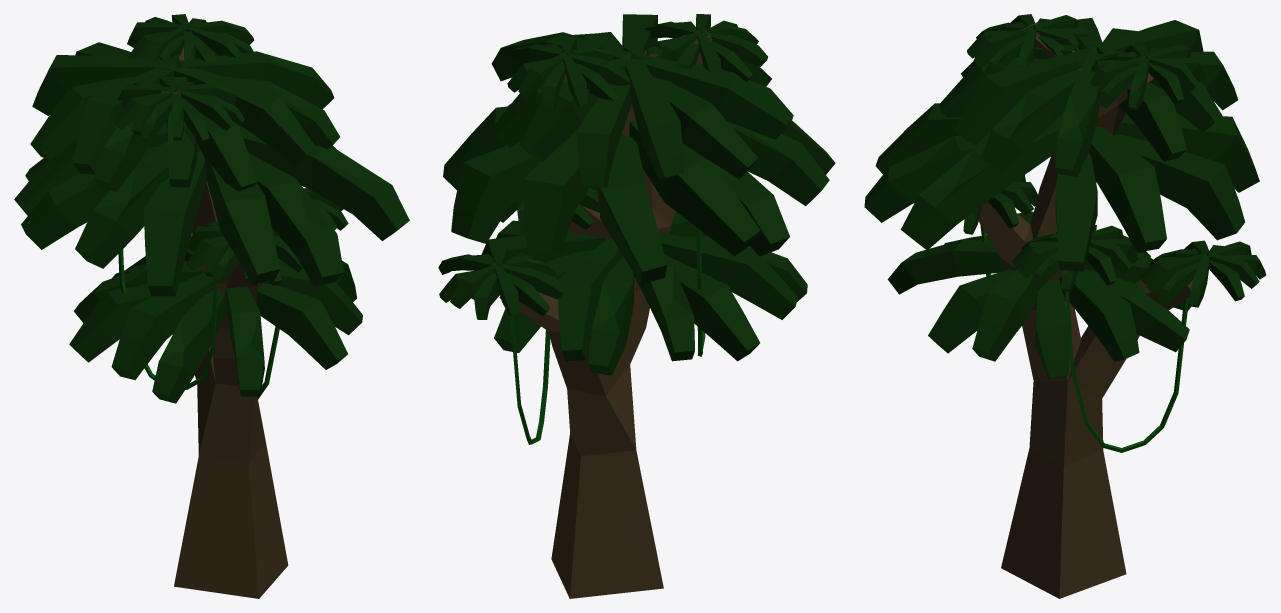
The model's file is jungleTree1.fbx.
3 views of the same model, side by side, from view 1: azimuth 30°, elevation 25°; view 2: azimuth 150°, elevation 25°; view 3: azimuth 270°, elevation 25° (orthographic). The views are drawn at different scales.
Visible parts, largest first — view 1: Cube, Cube.013, Cube.011, Cube.014, Cube.016, Cube.015, Cube.012, Cube.009, Cube.007, Cube.010, Cube.008, Cube.003 (+2 smaller); view 2: Cube, Cube.013, Cube.011, Cube.014, Cube.015, Cube.016, Cube.012, Cube.005, Cube.007, Cube.009, Cube.006, Cube.008 (+3 smaller); view 3: Cube, Cube.013, Cube.014, Cube.011, Cube.015, Cube.012, Cube.016, Cube.005, Cube.007, Cube.009, Cube.006, Cube.001 (+6 smaller).
Part boxes in pixels (box(x1,y1,x2,y2)): Cube: box(162, 47, 288, 598); Cube.013: box(14, 120, 409, 284); Cube.011: box(32, 51, 334, 187); Cube.014: box(21, 145, 343, 296); Cube.016: box(69, 260, 356, 403); Cube.015: box(74, 236, 362, 396); Cube.012: box(30, 42, 339, 191); Cube.009: box(117, 76, 236, 140); Cube.007: box(127, 14, 254, 62); Cube.010: box(114, 79, 244, 143); Cube.008: box(128, 17, 253, 75); Cube.003: box(187, 226, 302, 281); Cube: box(499, 28, 712, 598); Cube.013: box(443, 106, 829, 256); Cube.011: box(491, 14, 787, 179); Cube.014: box(451, 104, 835, 284); Cube.015: box(471, 211, 797, 361); Cube.016: box(494, 220, 807, 375); Cube.012: box(493, 32, 793, 187); Cube.005: box(438, 246, 563, 316); Cube.007: box(506, 36, 629, 105); Cube.009: box(644, 14, 765, 73); Cube.006: box(439, 253, 565, 319); Cube.008: box(507, 43, 626, 109); Cube: box(978, 22, 1192, 598); Cube.013: box(875, 103, 1259, 252); Cube.014: box(864, 112, 1244, 271); Cube.011: box(954, 18, 1222, 176); Cube.015: box(887, 211, 1190, 361); Cube.012: box(939, 28, 1237, 172); Cube.016: box(928, 225, 1189, 379); Cube.005: box(1146, 240, 1259, 307); Cube.007: box(1090, 43, 1198, 110); Cube.009: box(973, 14, 1079, 67); Cube.006: box(1140, 245, 1266, 305); Cube.001: box(1019, 225, 1131, 291).
Bounding box in the file's own units: 450 × 711 × 504.
